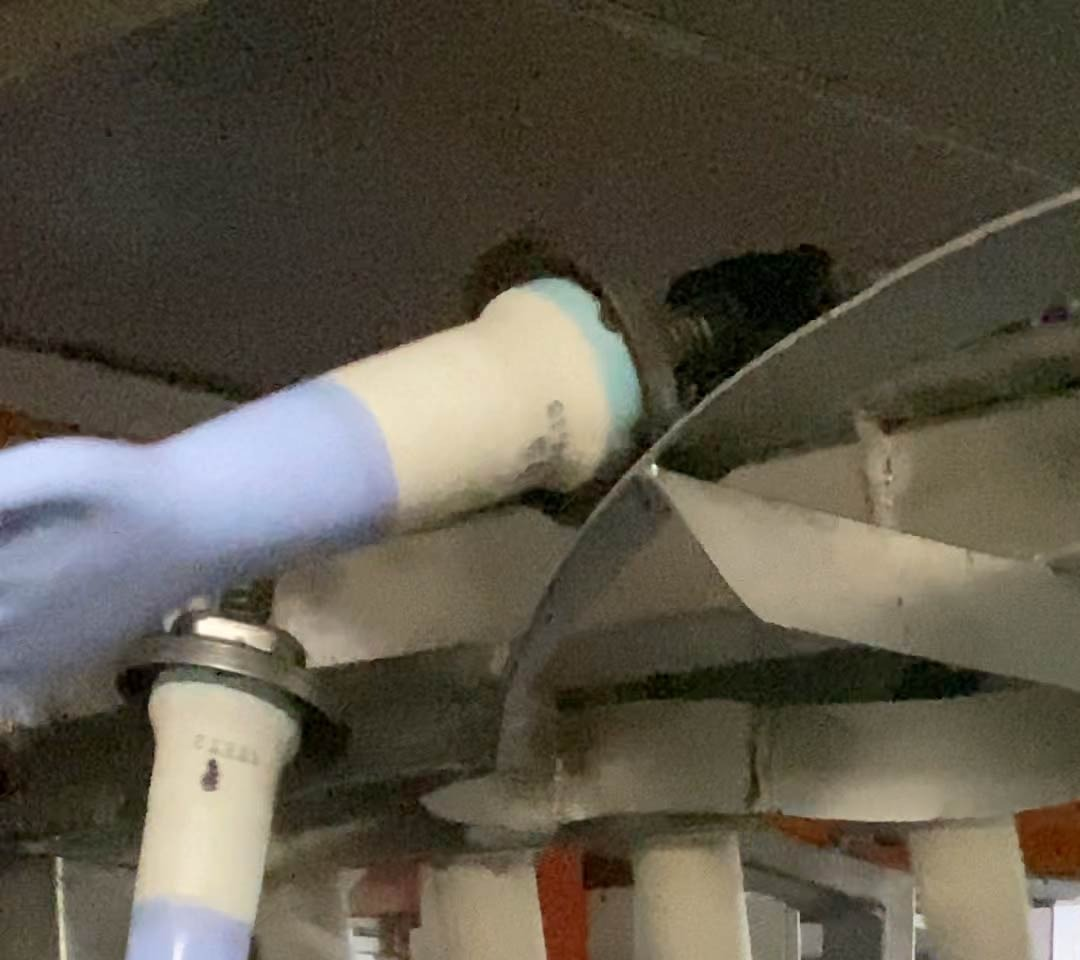glove: (1, 375, 407, 667)
